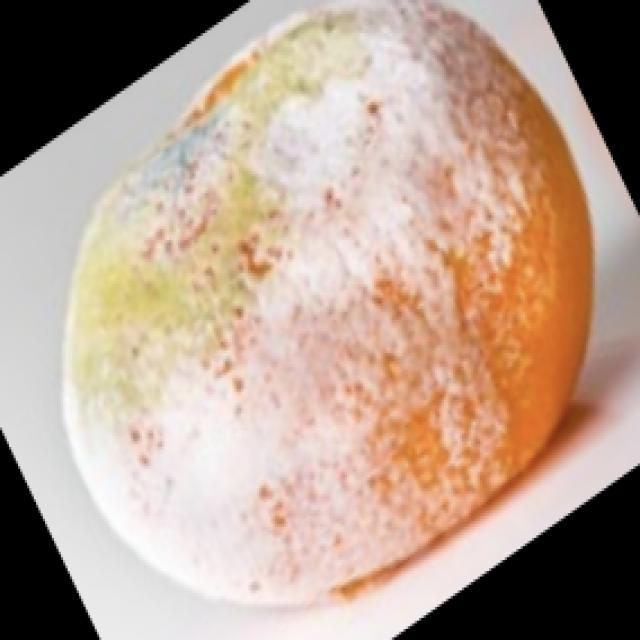sangat-busuk: (66, 0, 591, 604), (66, 0, 544, 604)
